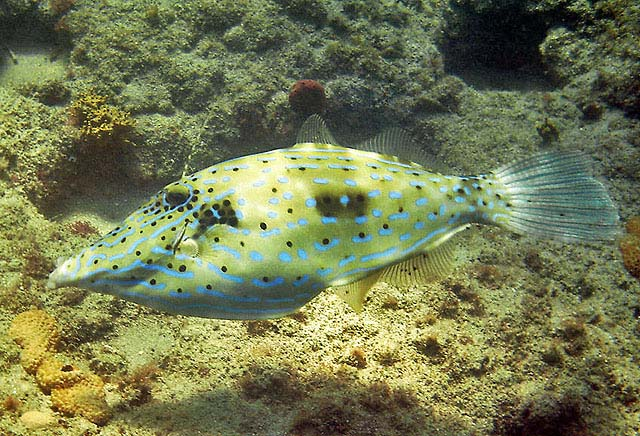Aluterus_scriptus: (44, 111, 620, 323)
